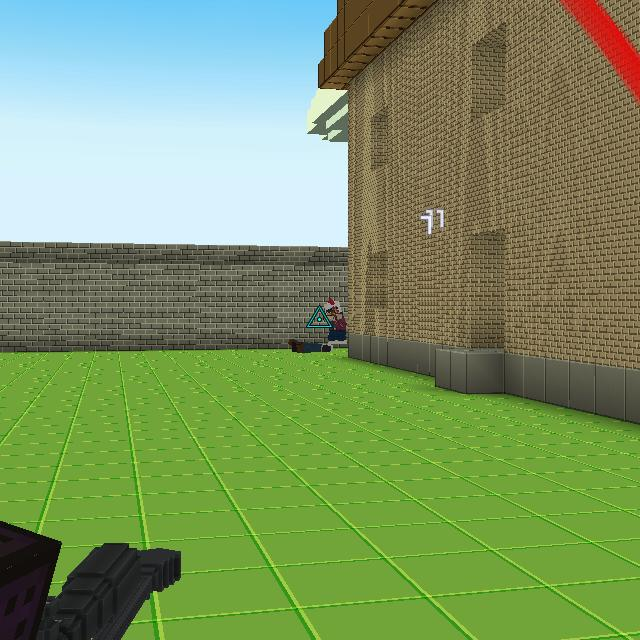enemy: (324, 297, 349, 345)
